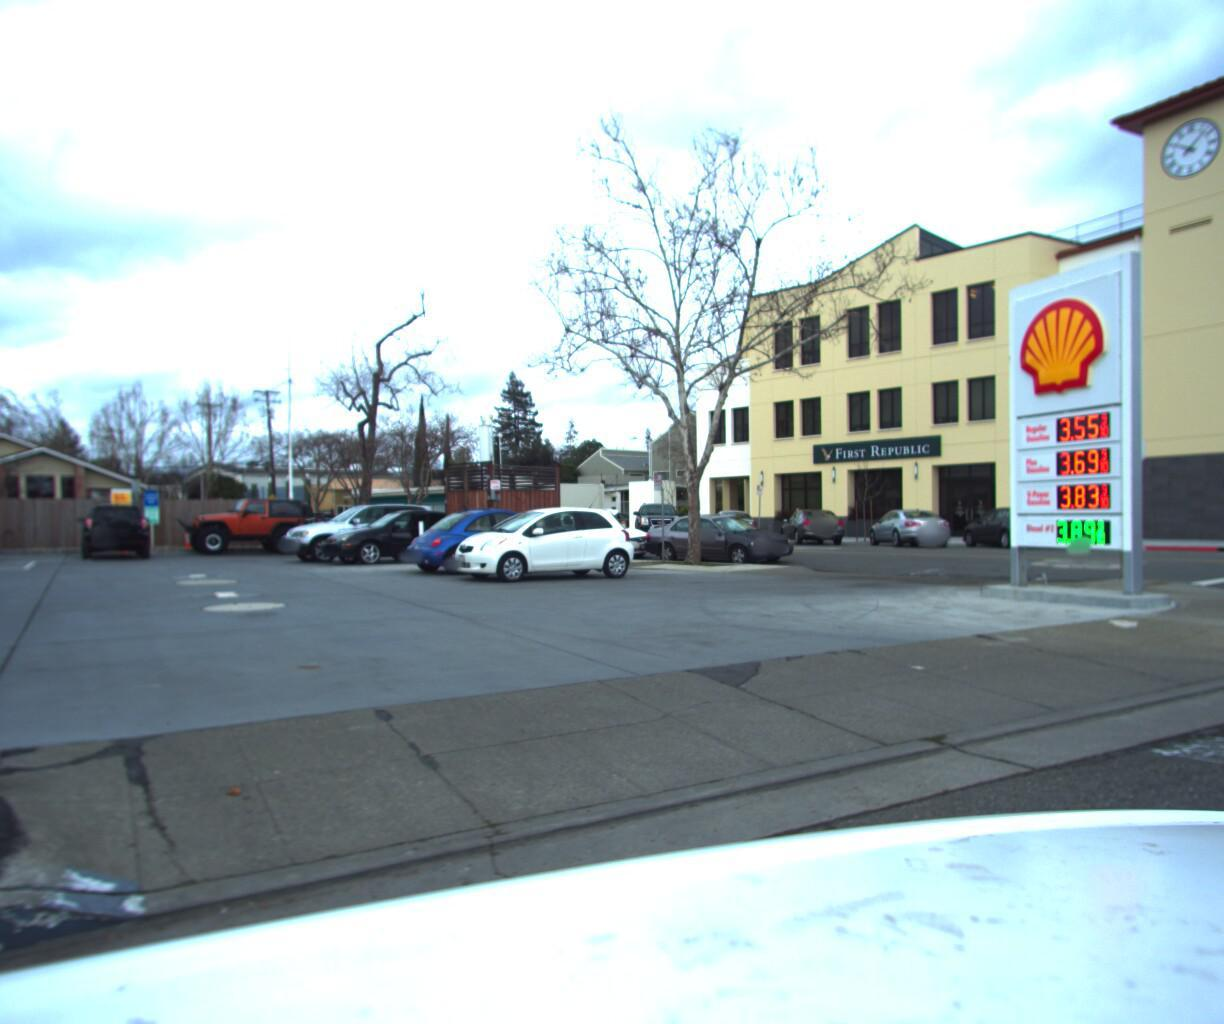car: (440, 496, 646, 580), (392, 496, 594, 574), (273, 493, 453, 559), (309, 499, 485, 559), (637, 502, 810, 562), (180, 488, 324, 549), (528, 503, 667, 556), (961, 498, 1078, 544), (82, 494, 157, 554), (866, 500, 961, 541), (779, 500, 853, 540), (635, 492, 685, 536), (707, 501, 763, 536)
